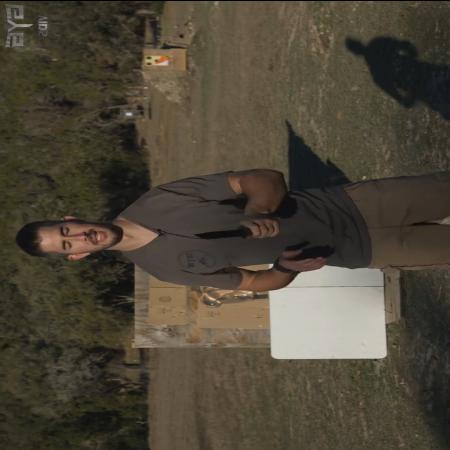long weapon: (189, 216, 279, 242)
